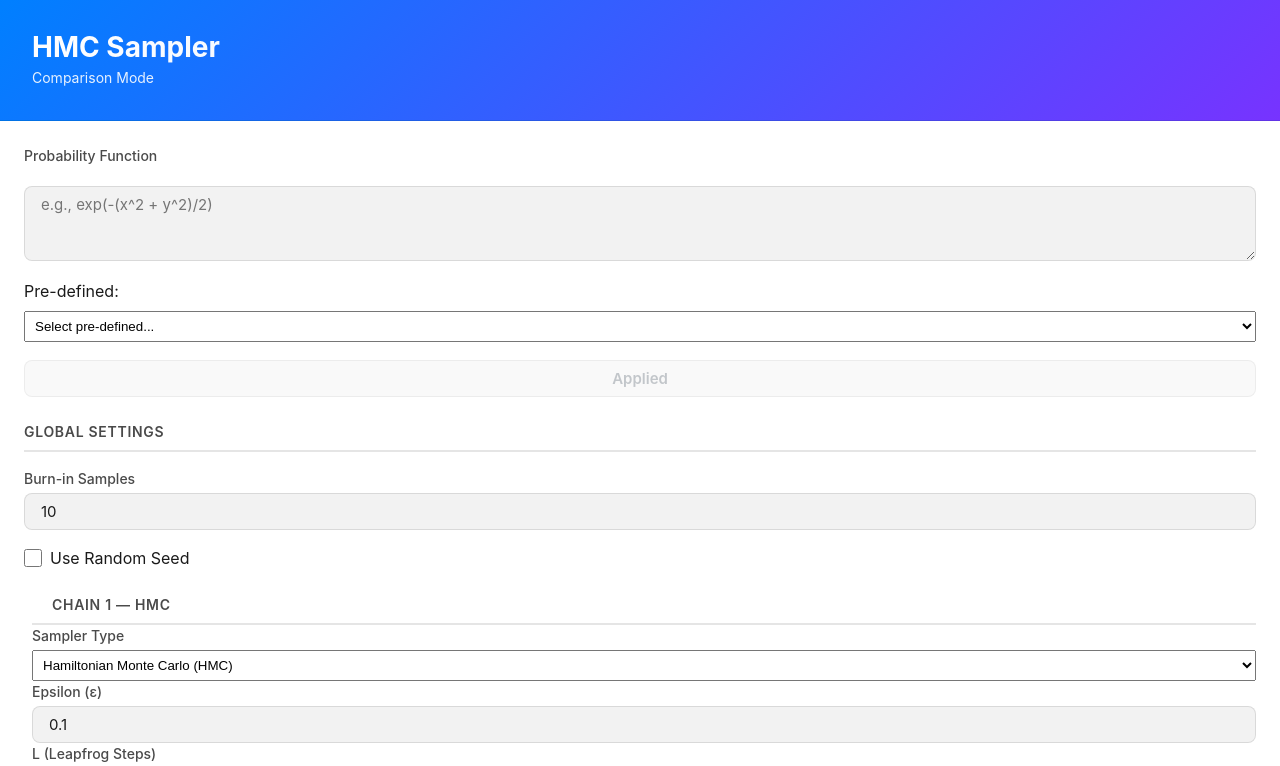
Test: Controls Component › Apply Button Text › should show "✓ Apply" when there are unsaved changes
Step 1. Type "exp(-x^2)" into the text box with placeholder "e.g., exp(-(x^2 + y^2)/2)" → (640,223), box [24,186,1256,261]
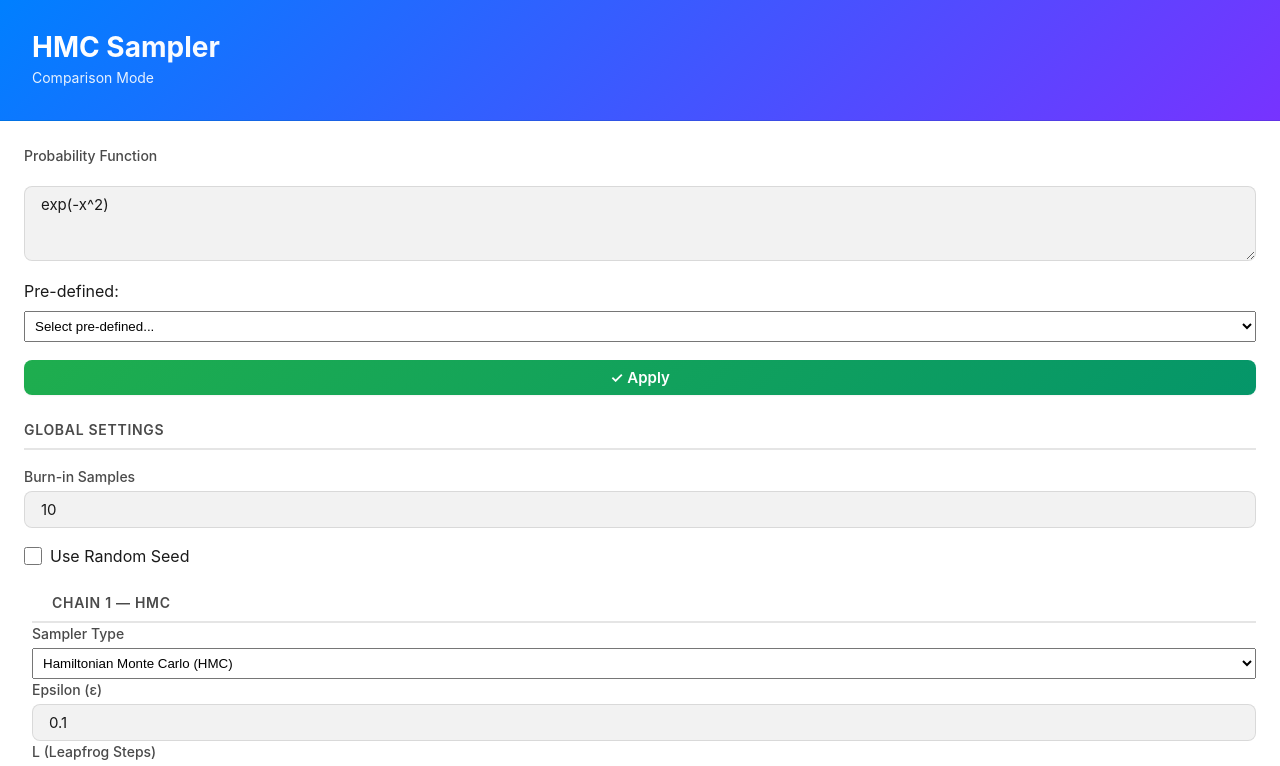
Expected: the button "✓ Apply" is shown, [24,360,1256,395]
